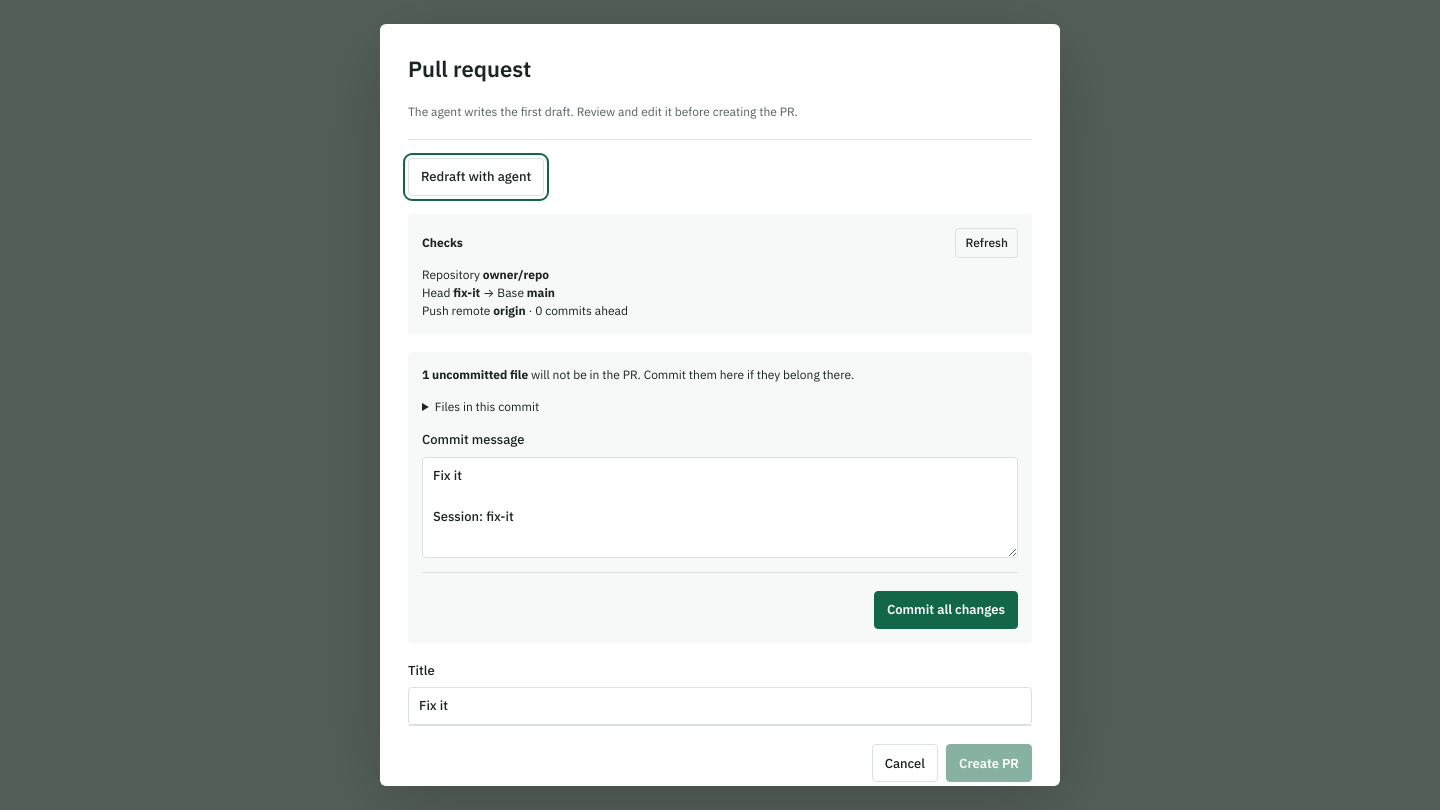
commits with the edited suggested message and reloads the checks
Replace the text in the text box showing "Session: fix-it" with "Fix the session view". click: (720, 507)
box: x1=422 y1=456 x2=1018 y2=558
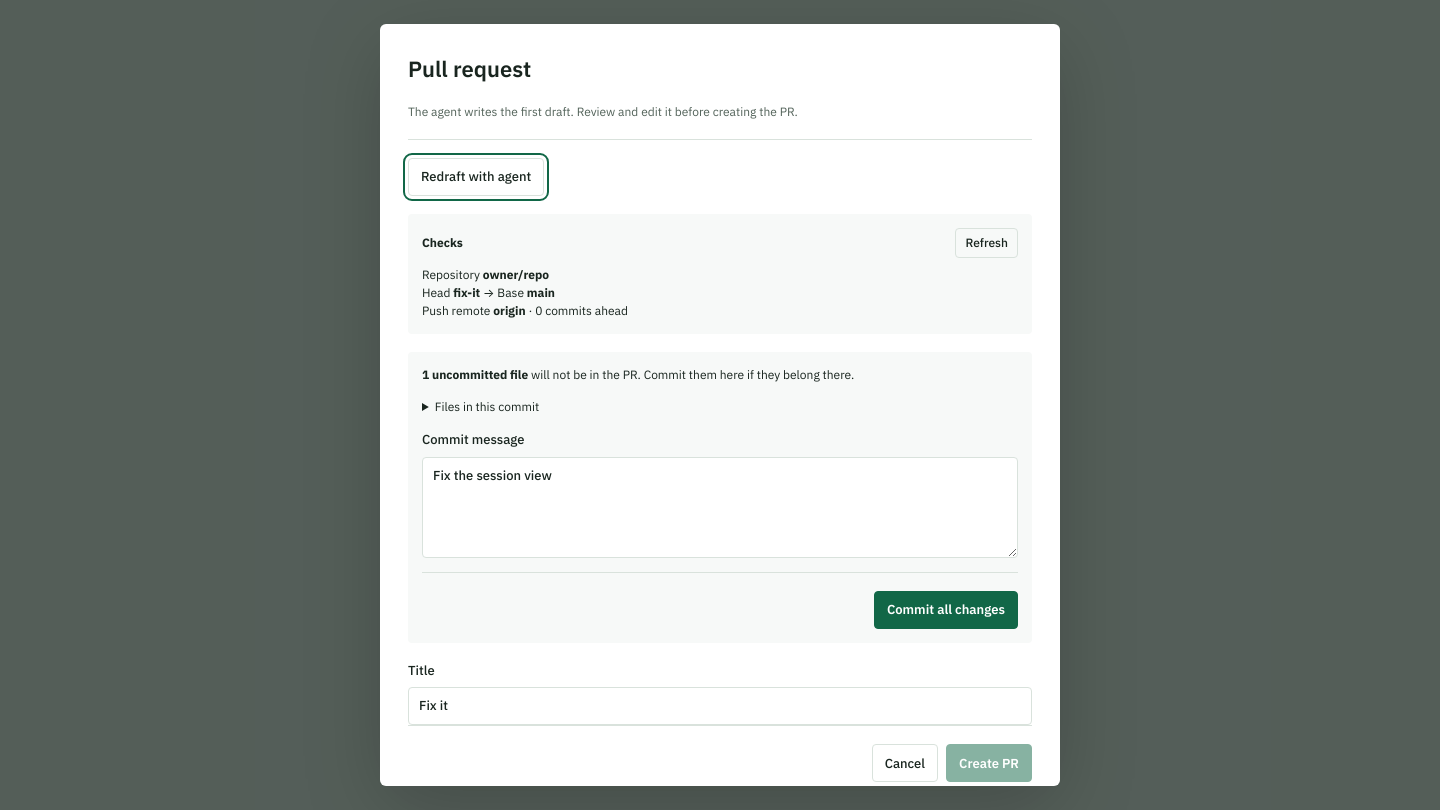
Click the button "Commit all changes". click: click(946, 610)
box: x1=874 y1=591 x2=1018 y2=629
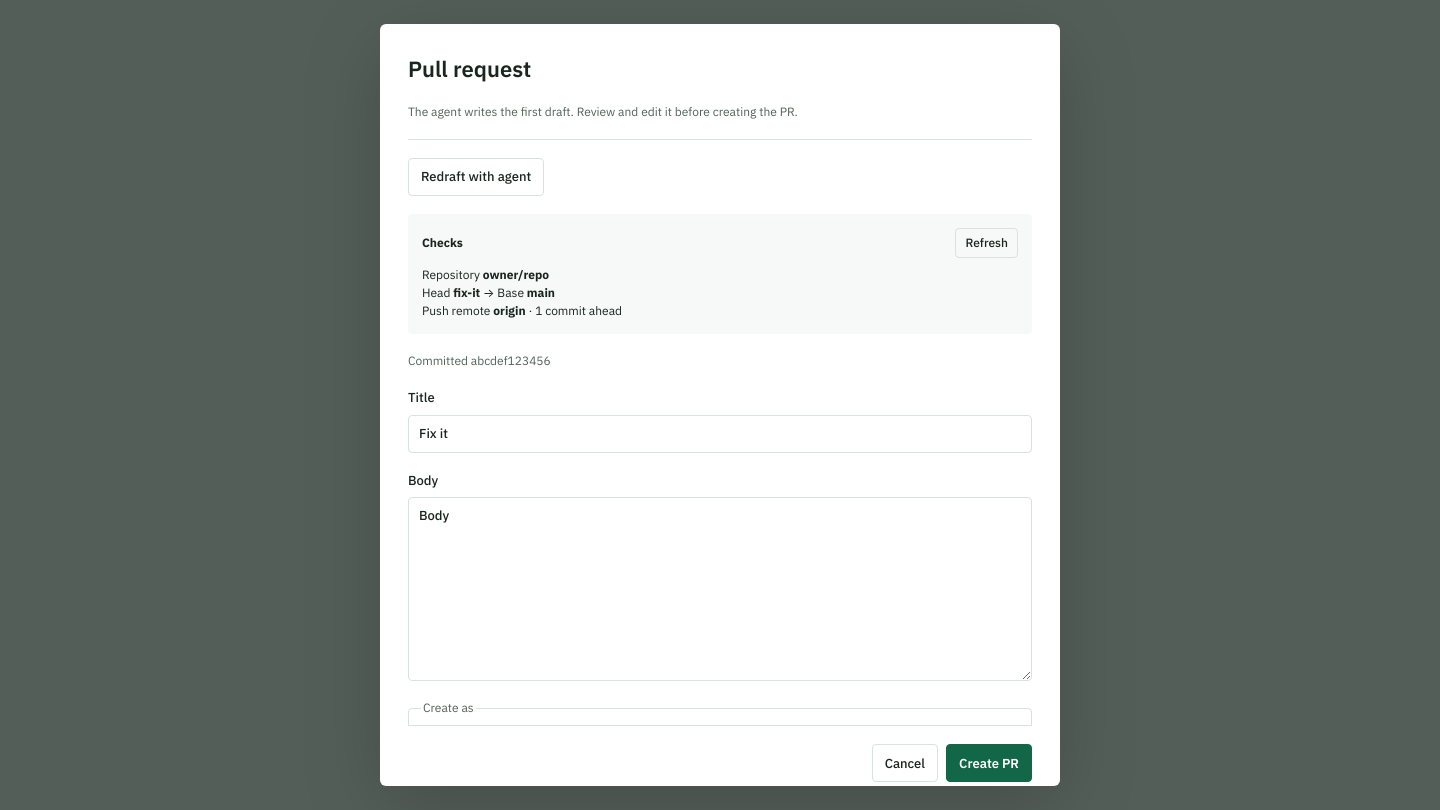
Check: the text "Committed abcdef123456" is shown, box x1=408 y1=353 x2=551 y2=368
Check: the button "Create PR" is enabled, box x1=946 y1=744 x2=1032 y2=782
